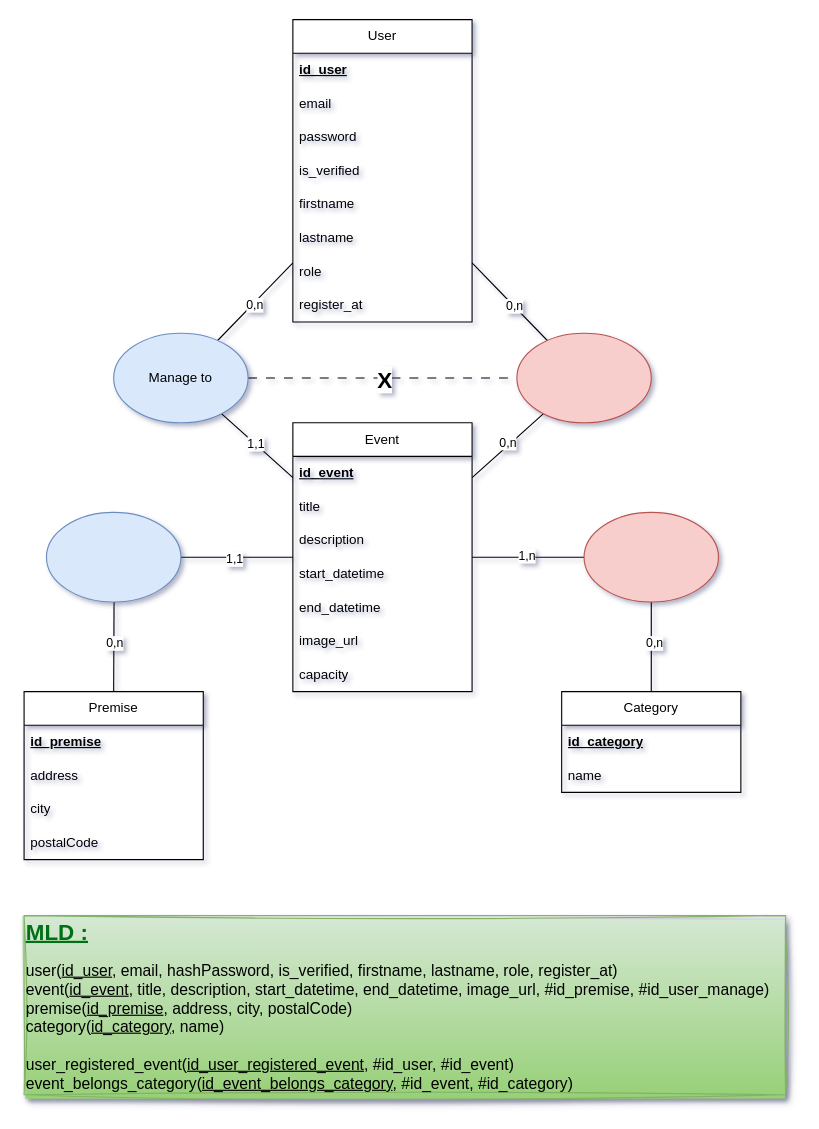
The diagram is 819 pixels wide and 1129 high, and some of its shapes have lost their labels. Here are the shapes that lost their labels. From the top down, the centre of each, then its label:
pixel 583 377: Registered
pixel 113 556: Be
pixel 650 556: Belongs to
